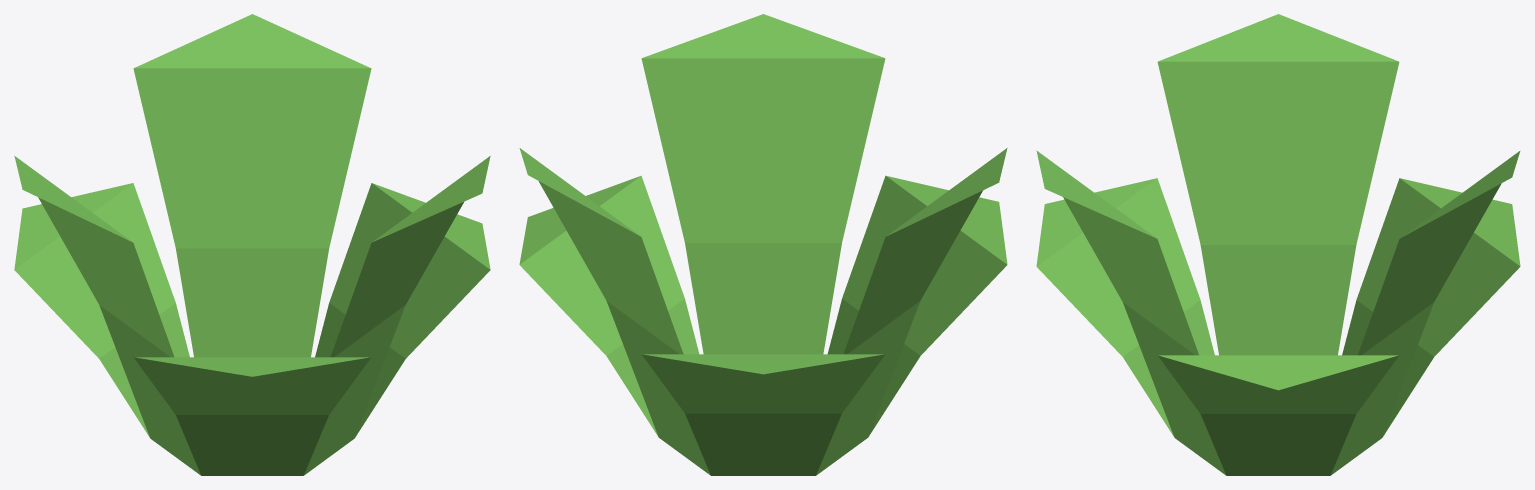
The model's file is bush_large.glb.
3 renders of one model, left to right at view 1: azimuth 30°, elevation 25°; view 2: azimuth 150°, elevation 25°; view 3: azimuth 270°, elevation 25°, orthographic. The views are drawn at different scales.
Visible parts, largest first — view 1: plant_bushLarge; view 2: plant_bushLarge; view 3: plant_bushLarge.
Part boxes in pixels (x1,y1,x2,y2): plant_bushLarge: (14, 14, 490, 475); plant_bushLarge: (519, 14, 1007, 475); plant_bushLarge: (1036, 14, 1520, 475).
Size of the model in its own units: 0.3743 by 0.2429 by 0.3357.
